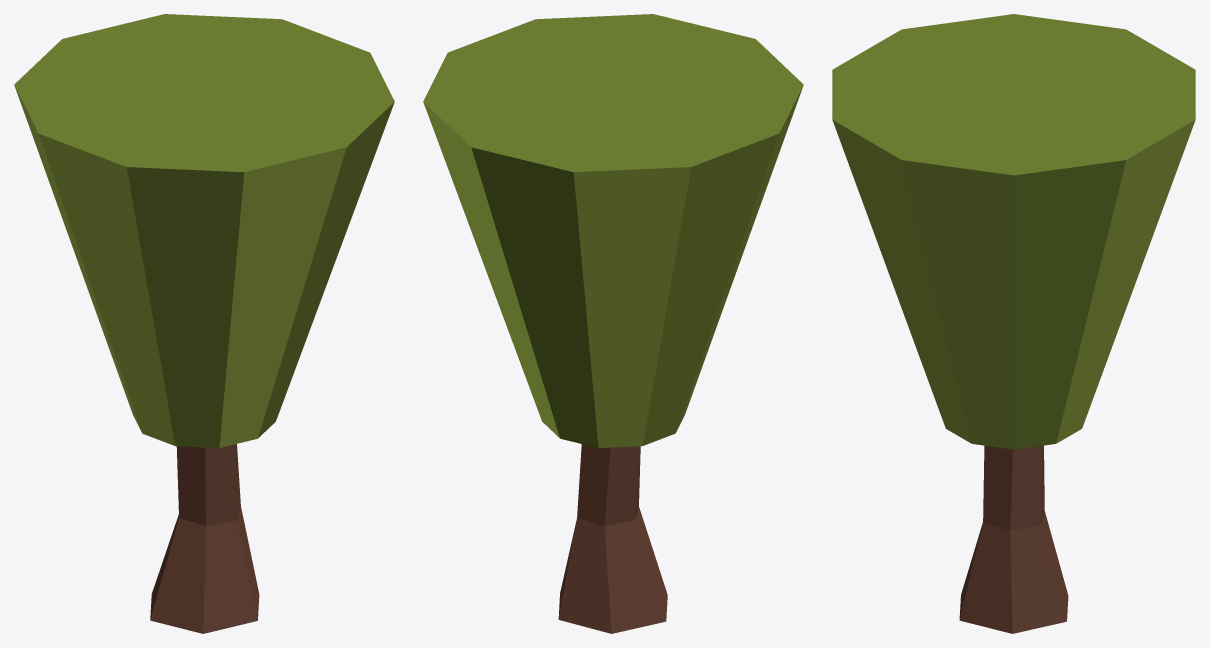
File: tree5.fbx
3 views of the same model, side by side, from view 1: azimuth 30°, elevation 25°; view 2: azimuth 150°, elevation 25°; view 3: azimuth 270°, elevation 25° (orthographic).
Parts seen in each view (by area): view 1: Ağaç5_Mesh; view 2: Ağaç5_Mesh; view 3: Ağaç5_Mesh.
Boxes of the visible parts, <box> form: Ağaç5_Mesh: <box>14,14,394,633</box>; Ağaç5_Mesh: <box>423,14,803,633</box>; Ağaç5_Mesh: <box>832,14,1195,633</box>.
Size of the model in its own units: 2.16 by 3.2 by 2.05.
